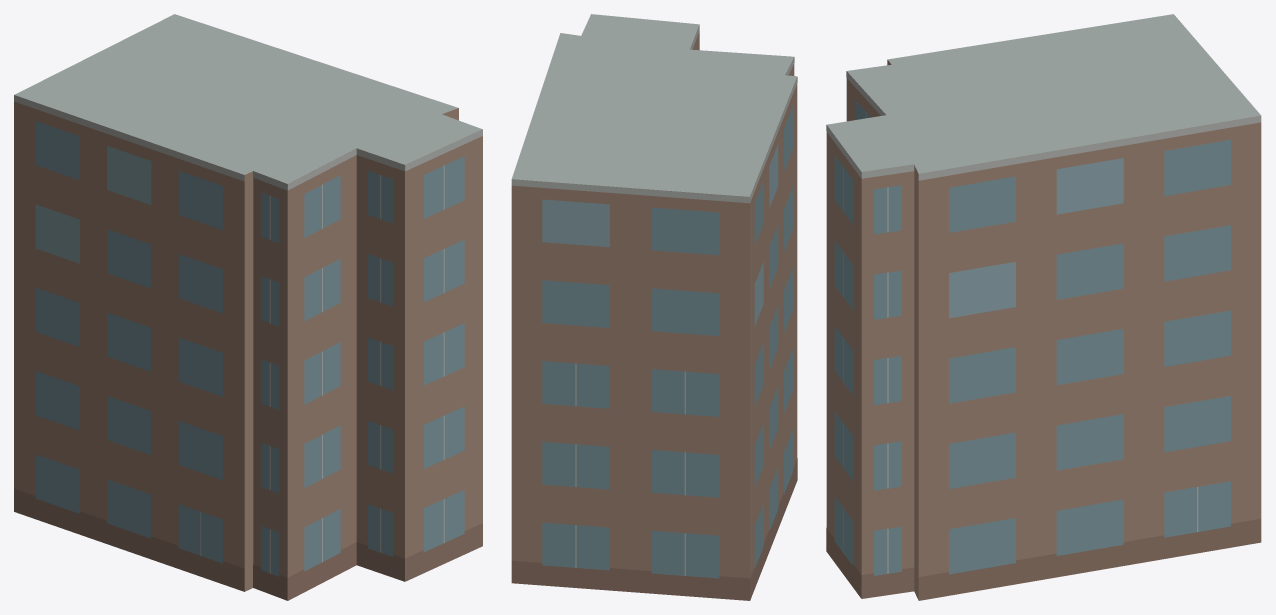
Rendered from survey-upis-32884166.glb.
3 renders of one model, left to right at view 1: azimuth 30°, elevation 25°; view 2: azimuth 150°, elevation 25°; view 3: azimuth 270°, elevation 25°, orthographic. The views are drawn at different scales.
Parts seen in each view (by area): view 1: survey-upis-32884166.tmp; view 2: survey-upis-32884166.tmp; view 3: survey-upis-32884166.tmp.
Part boxes in pixels (box(x1,y1,x2,y2)): survey-upis-32884166.tmp: box(14, 14, 482, 600); survey-upis-32884166.tmp: box(511, 14, 797, 600); survey-upis-32884166.tmp: box(826, 14, 1261, 600).
Bounding box in the file's own units: 12.47 × 15.5 × 14.32.
